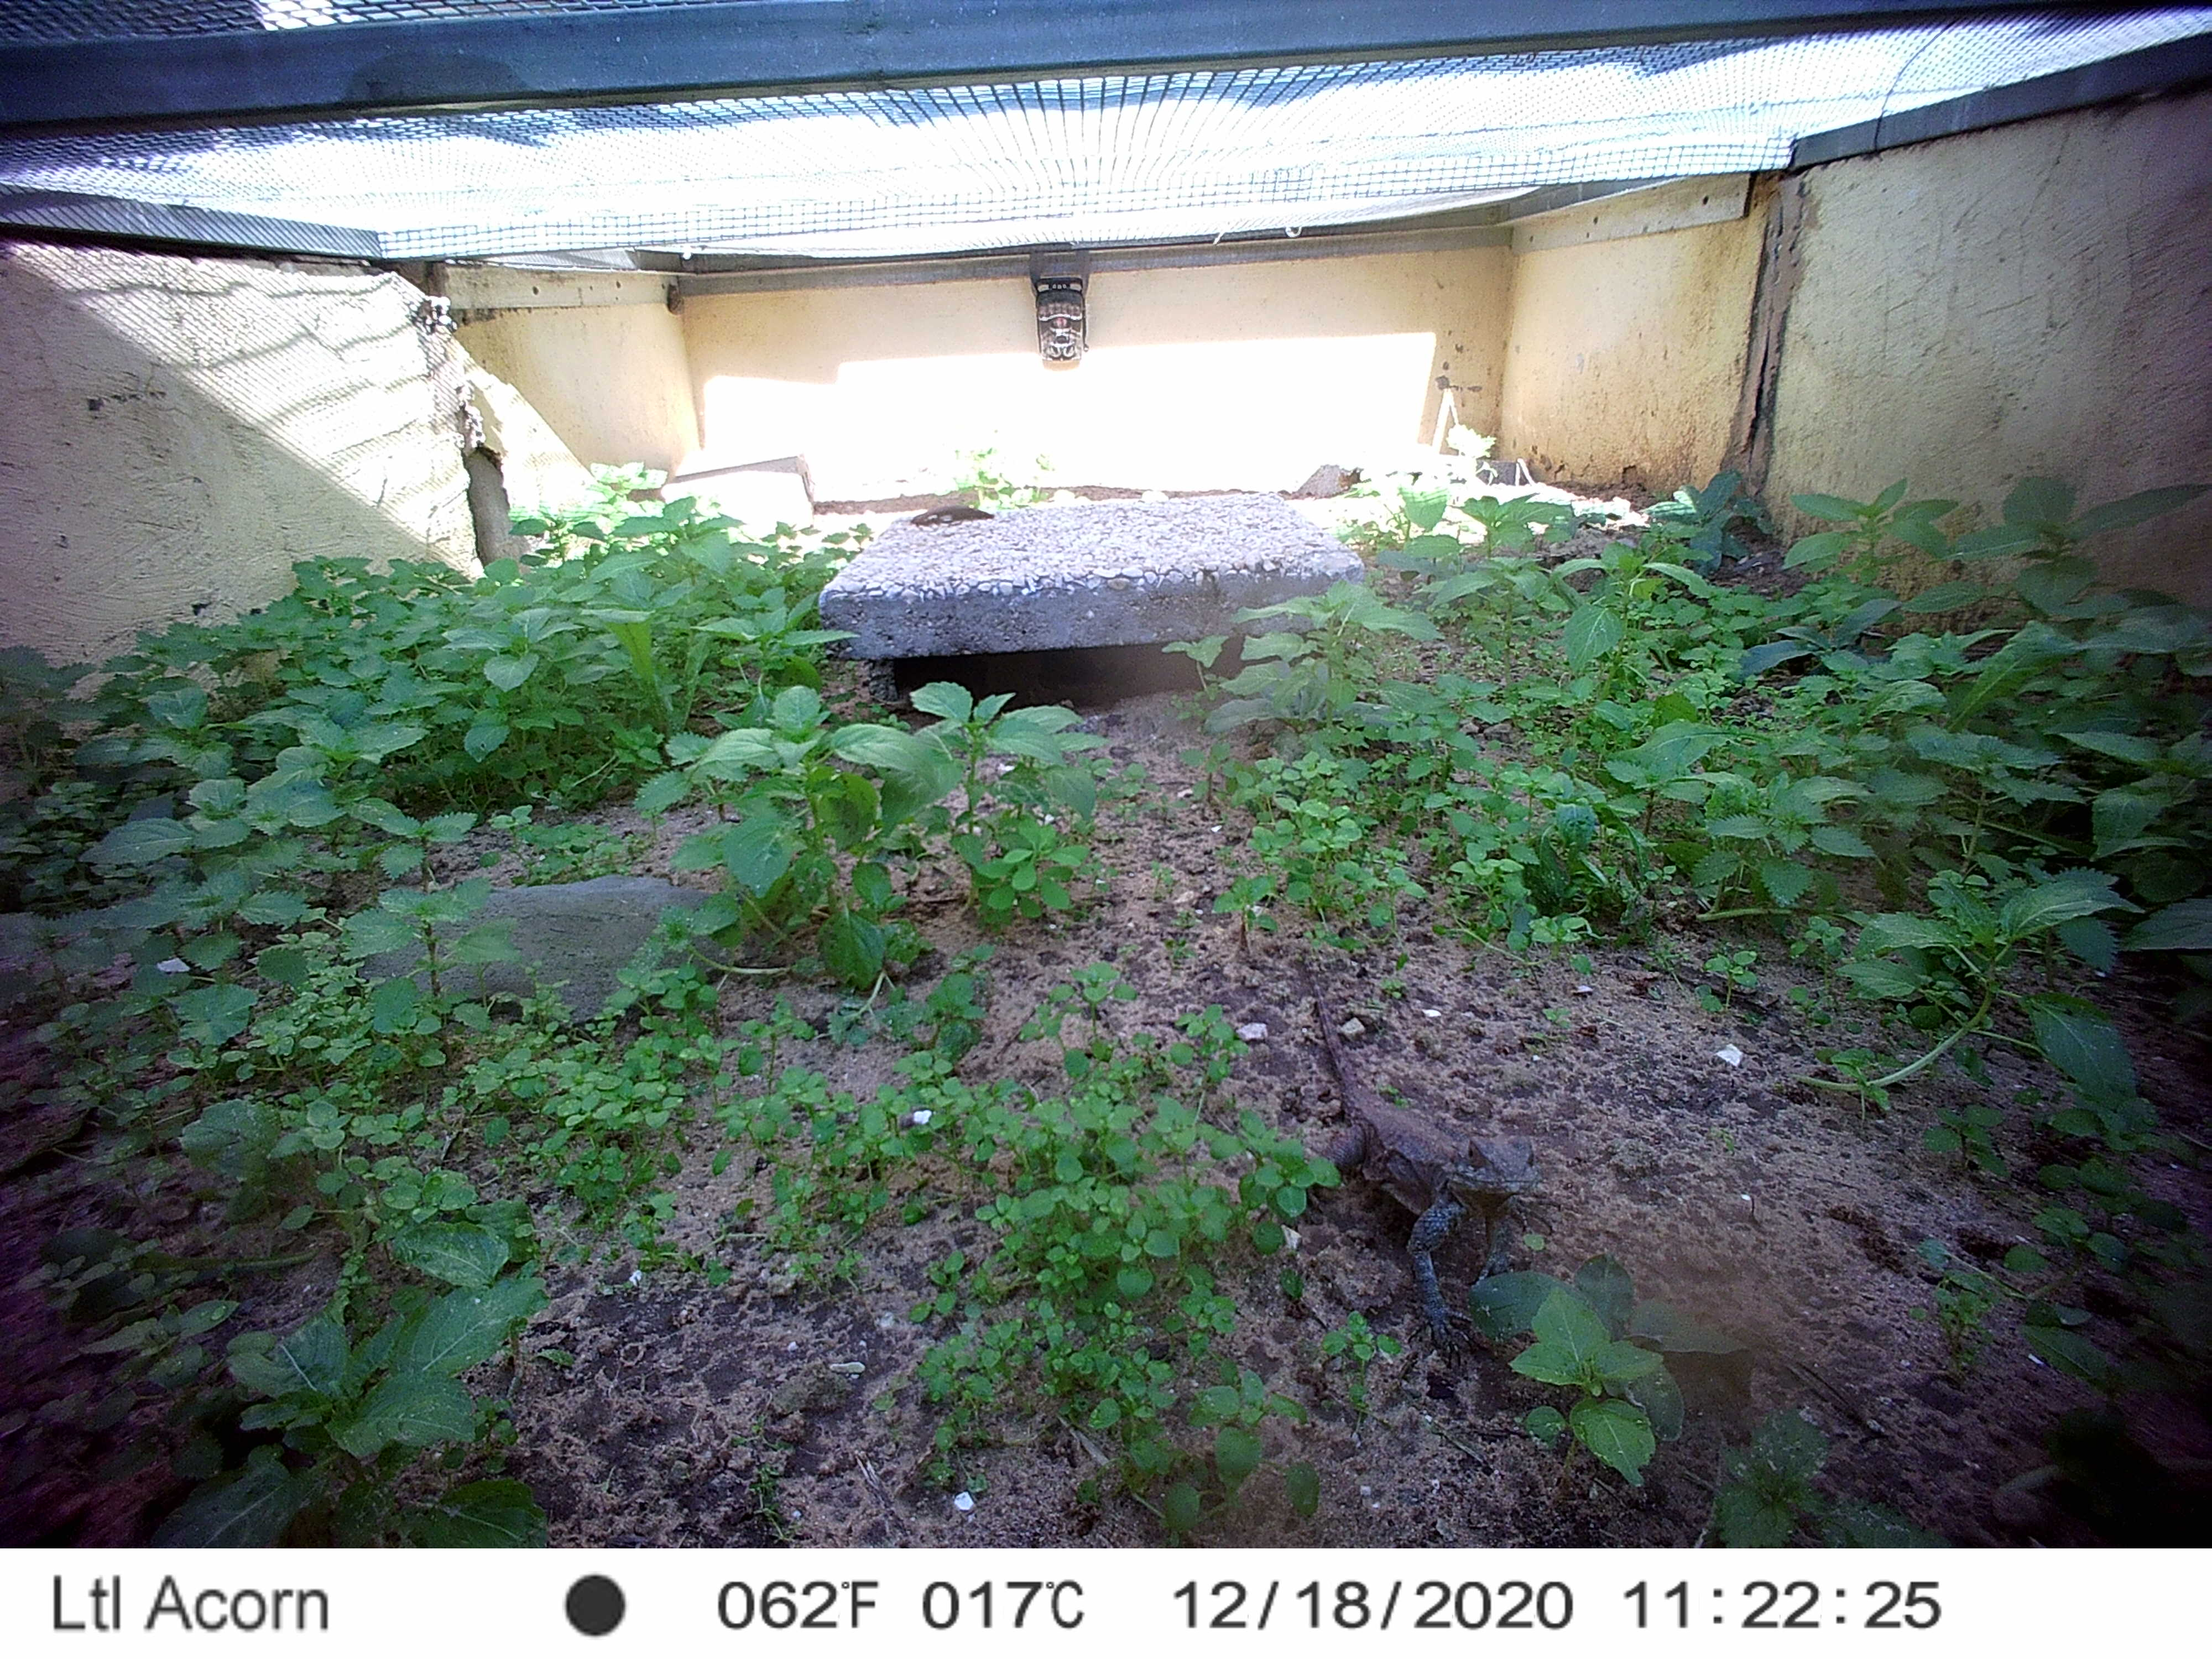lizard: (1240, 950, 1548, 1370)
